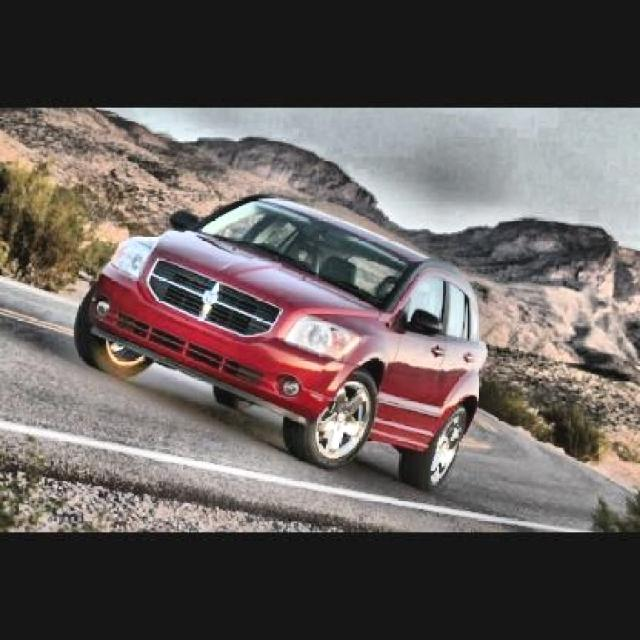maroon: (74, 196, 488, 492)
